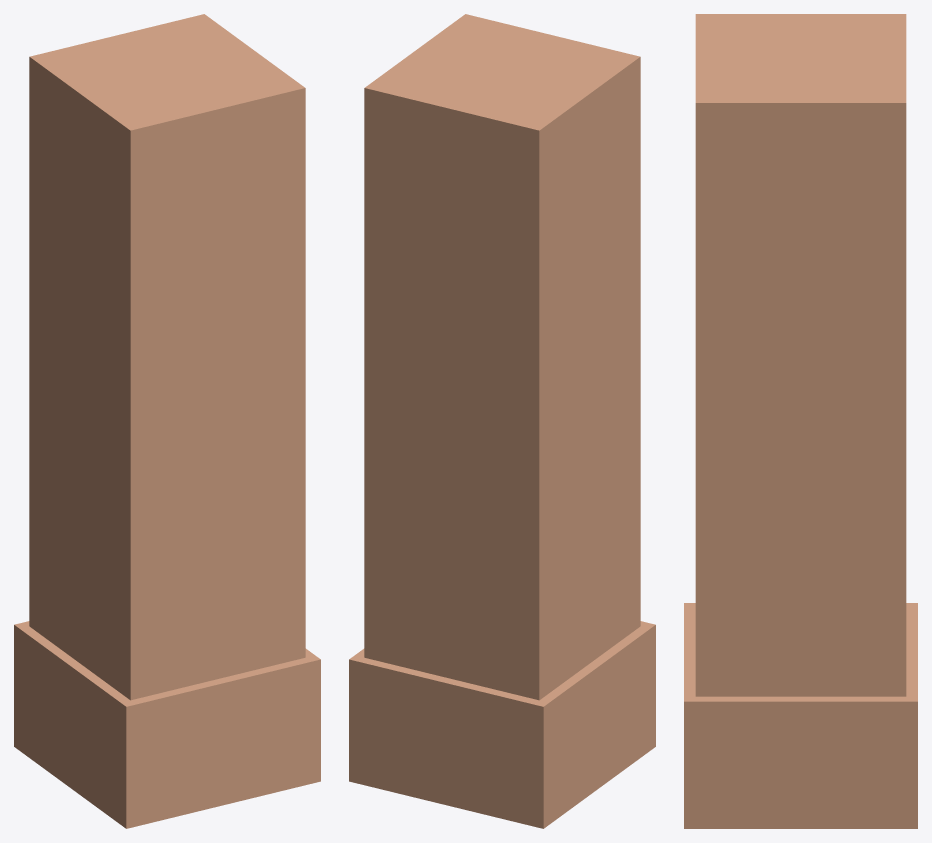
Rendered from arb_antebrazo.obj.
The picture shows the model from 3 angles, left to right: view 1: azimuth 30°, elevation 25°; view 2: azimuth 150°, elevation 25°; view 3: azimuth 270°, elevation 25°; orthographic projection. The views are drawn at different scales.
Size of the model in its own units: 0.1 by 0.34 by 0.1.
1 material, 1 textured.
